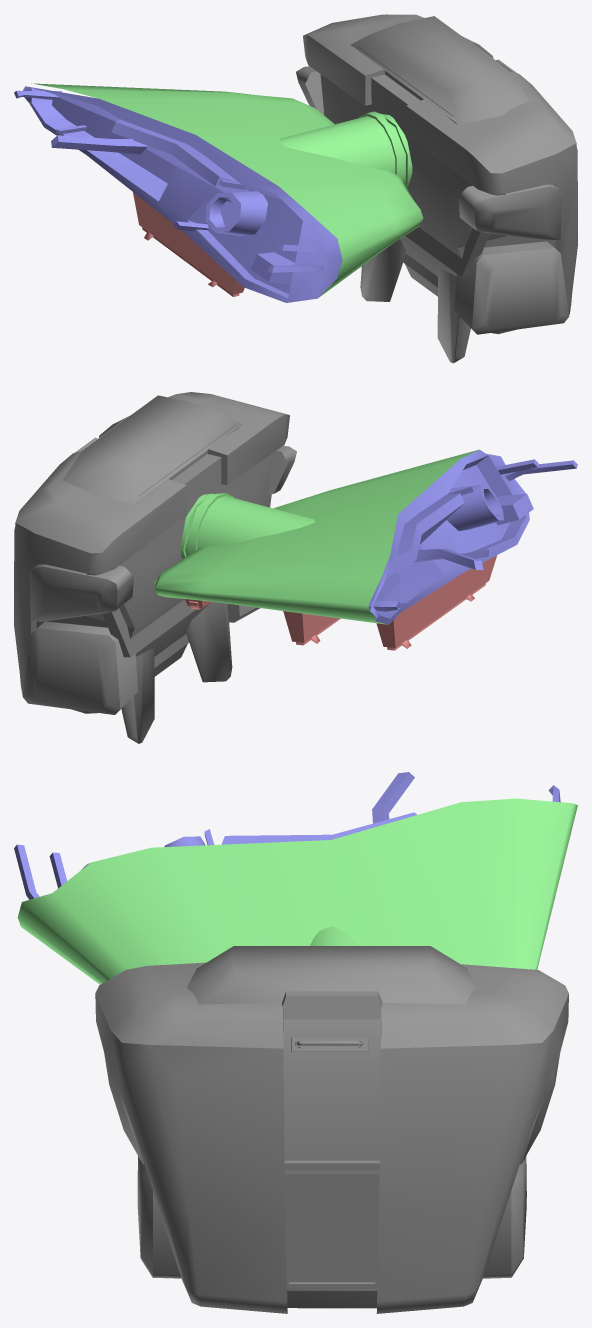
The model's file is SM_vehicle_dropship_raiders_A_debris_wingOutside.gltf.
3 renders of one model, top to bottom at view 1: azimuth 30°, elevation 25°; view 2: azimuth 150°, elevation 25°; view 3: azimuth 270°, elevation 25°, orthographic. The views are drawn at different scales.
Visible parts, largest first — view 1: SM_vehicle_dropship_raiders_A_debris_wingOutside; view 2: SM_vehicle_dropship_raiders_A_debris_wingOutside; view 3: SM_vehicle_dropship_raiders_A_debris_wingOutside.
Boxes of the visible parts, x1,y1,x2,y2 form: SM_vehicle_dropship_raiders_A_debris_wingOutside: (14,14,577,363); SM_vehicle_dropship_raiders_A_debris_wingOutside: (14,392,577,743); SM_vehicle_dropship_raiders_A_debris_wingOutside: (14,772,577,1313).
Bounding box in the file's own units: 5.6 × 3.26 × 4.93.
